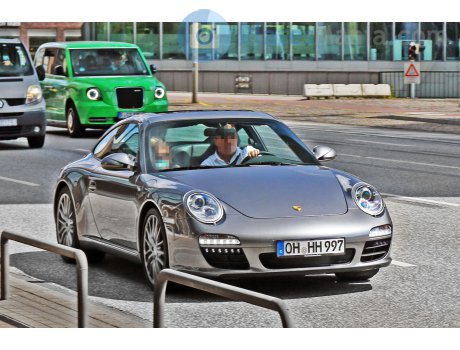License Plates: (283, 237, 345, 250)
